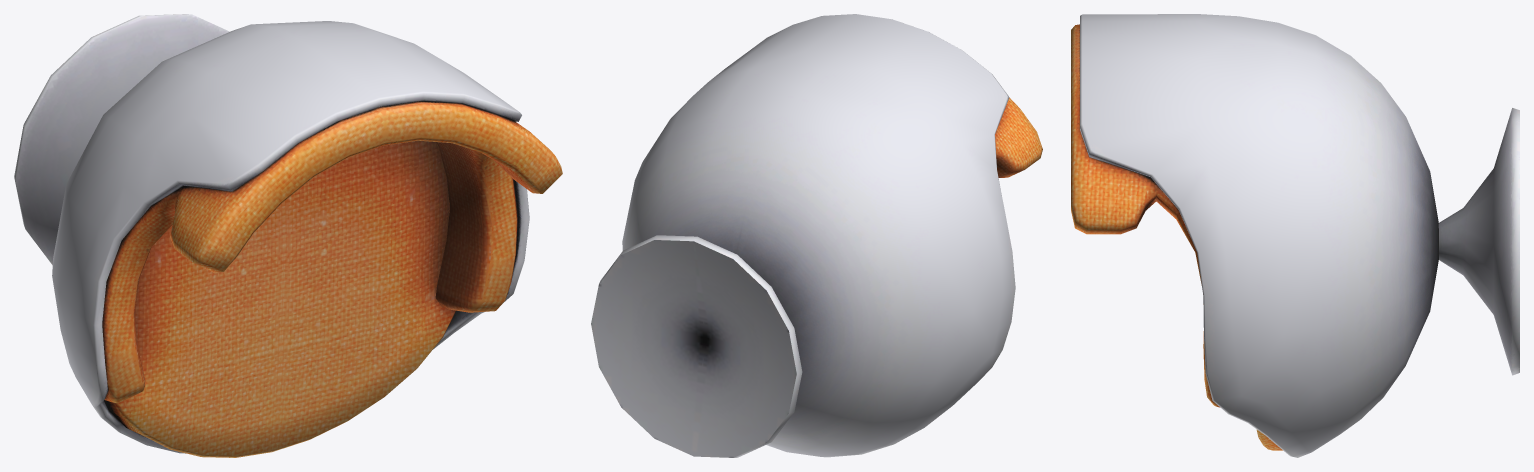
Rendered from nt_2020_space_chair_LOD0.obj.
3 views of the same model, side by side, from view 1: azimuth 30°, elevation 25°; view 2: azimuth 150°, elevation 25°; view 3: azimuth 270°, elevation 25° (orthographic). The views are drawn at different scales.
Parts seen in each view (by area): view 1: mtl_nt_2020_space_chair; view 2: mtl_nt_2020_space_chair; view 3: mtl_nt_2020_space_chair.
Part boxes in pixels (x1=…): mtl_nt_2020_space_chair: x1=14, y1=14, x2=562, y2=457; mtl_nt_2020_space_chair: x1=591, y1=14, x2=1042, y2=457; mtl_nt_2020_space_chair: x1=1071, y1=14, x2=1519, y2=457.
Size of the model in its own units: 93.72 by 90 by 91.64.
